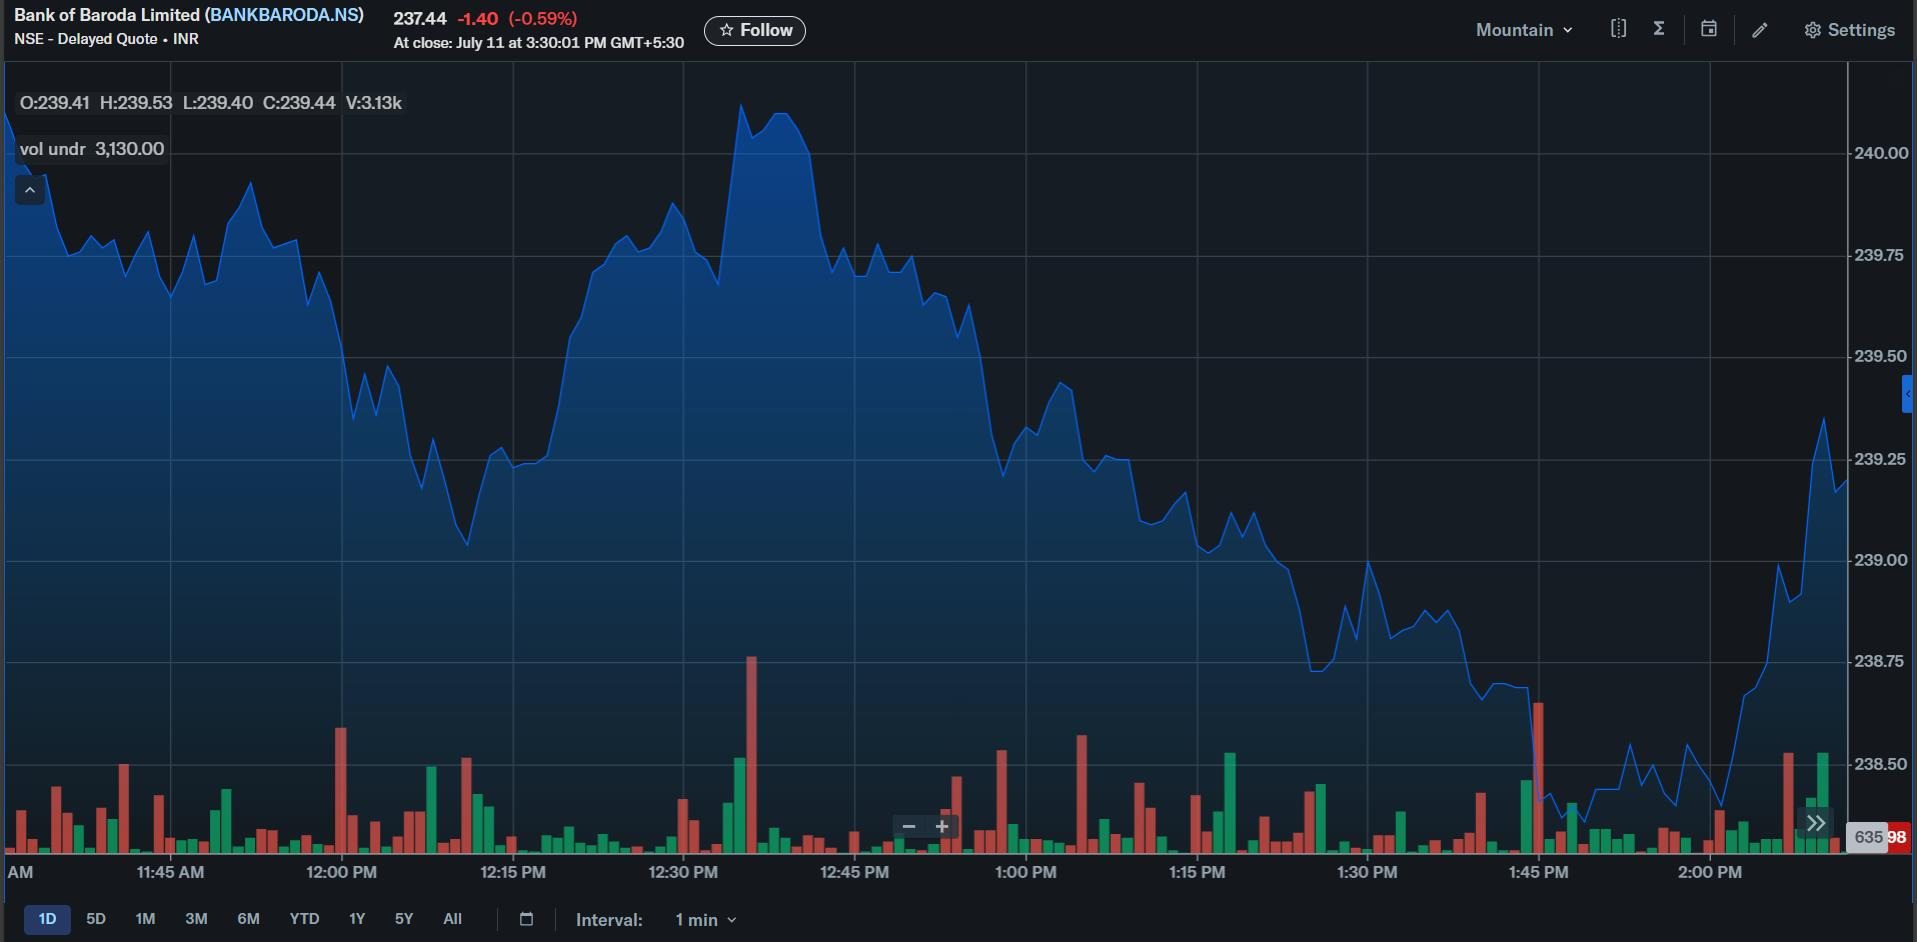Downtrend: (954, 276, 1043, 523), (1506, 637, 1597, 832), (1248, 498, 1334, 688), (789, 89, 847, 296), (311, 247, 374, 434)
Sideways: (75, 216, 224, 316)
Uptrend: (450, 132, 649, 558), (1736, 392, 1846, 623)
